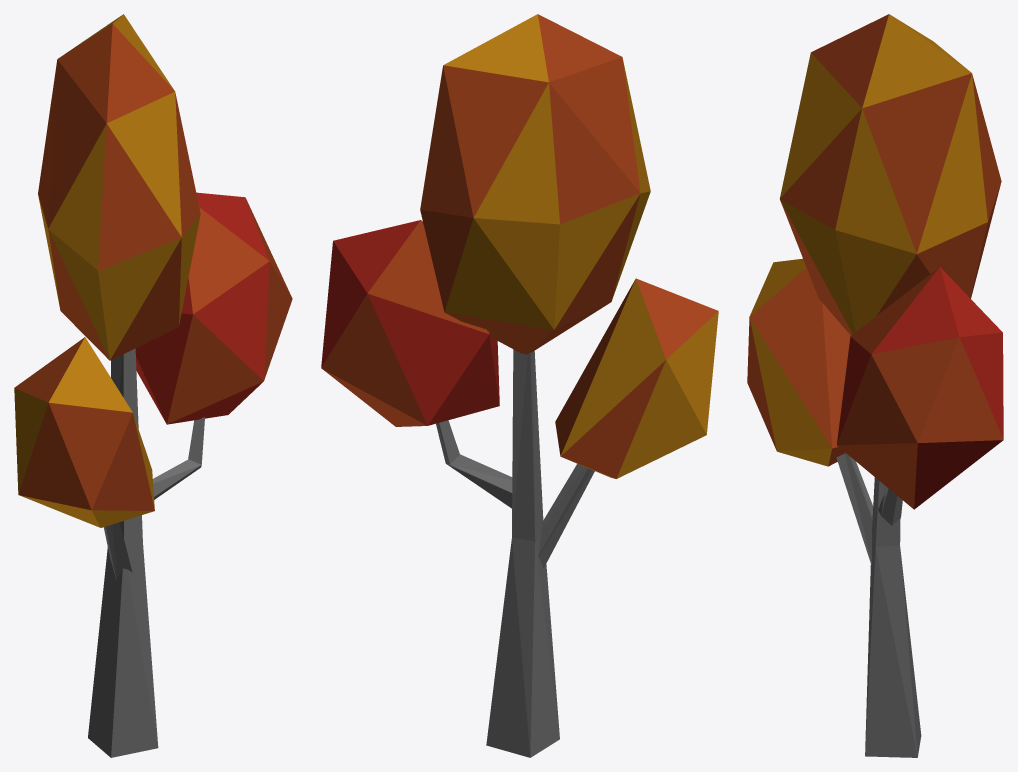
The model's file is Tree1_M2_8_big.fbx.
3 renders of one model, left to right at view 1: azimuth 30°, elevation 25°; view 2: azimuth 150°, elevation 25°; view 3: azimuth 270°, elevation 25°, orthographic.
Parts seen in each view (by area): view 1: Tree1_M2_8_big; view 2: Tree1_M2_8_big; view 3: Tree1_M2_8_big.
Part boxes in pixels (x1,y1,x2,y2): Tree1_M2_8_big: (14, 14, 292, 757); Tree1_M2_8_big: (321, 14, 718, 757); Tree1_M2_8_big: (747, 14, 1003, 757).
Bounding box in the file's own units: 283 × 602 × 193.
